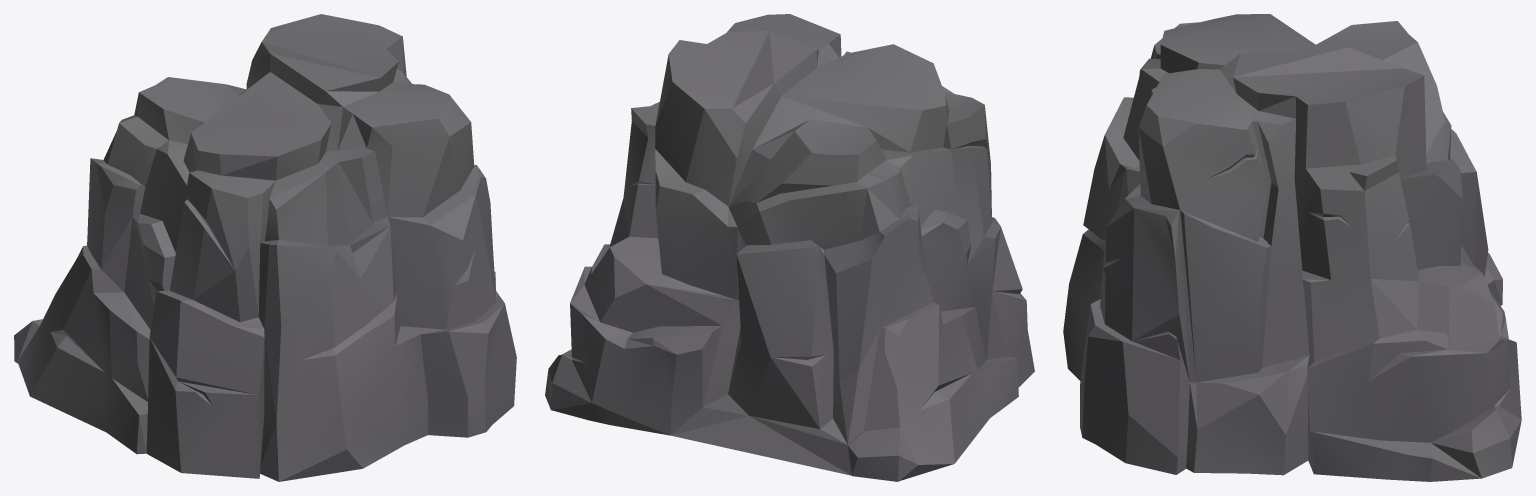
File: SM_Nature_Mountains_01.fbx
3 renders of one model, left to right at view 1: azimuth 30°, elevation 25°; view 2: azimuth 150°, elevation 25°; view 3: azimuth 270°, elevation 25°, orthographic. The views are drawn at different scales.
Parts seen in each view (by area): view 1: SM_Nature_Mountains_01; view 2: SM_Nature_Mountains_01; view 3: SM_Nature_Mountains_01.
Boxes of the visible parts, <box> form: SM_Nature_Mountains_01: <box>14,14,516,481</box>; SM_Nature_Mountains_01: <box>545,14,1034,481</box>; SM_Nature_Mountains_01: <box>1063,14,1521,481</box>.
Bounding box in the file's own units: 69.55 × 53.76 × 65.02.
